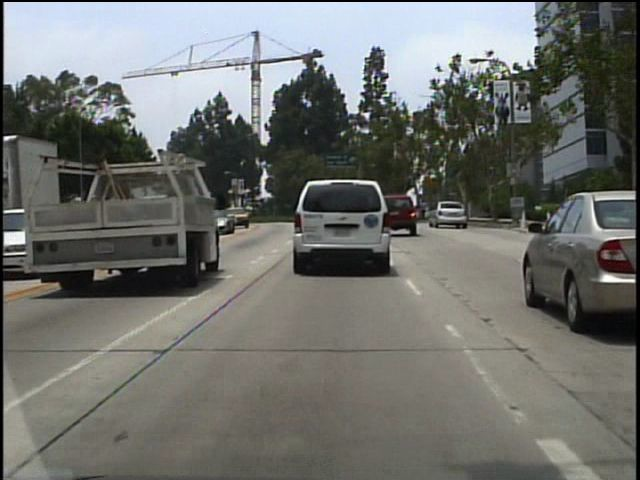person: (417, 196, 431, 222)
